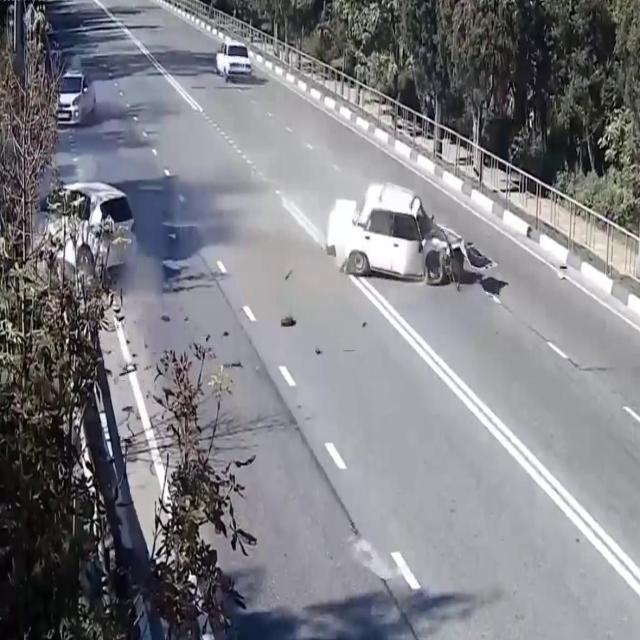accident: (320, 164, 502, 312), (0, 162, 149, 322)
